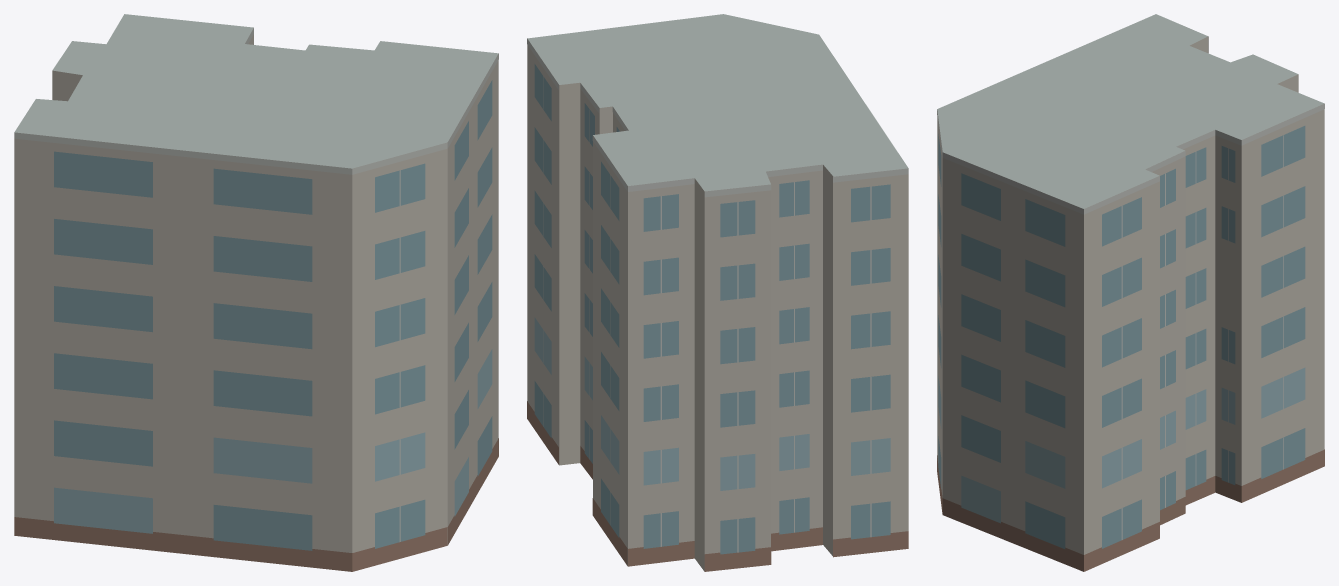
File: survey-upis-32885755.glb
3 renders of one model, left to right at view 1: azimuth 30°, elevation 25°; view 2: azimuth 150°, elevation 25°; view 3: azimuth 270°, elevation 25°, orthographic. The views are drawn at different scales.
Visible parts, largest first — view 1: survey-upis-32885755.tmp; view 2: survey-upis-32885755.tmp; view 3: survey-upis-32885755.tmp.
Part boxes in pixels (x1,y1,x2,y2): survey-upis-32885755.tmp: [14, 14, 498, 571]; survey-upis-32885755.tmp: [527, 14, 908, 571]; survey-upis-32885755.tmp: [937, 14, 1324, 571].
Bounding box in the file's own units: 18.11 × 15.7 × 15.21.
